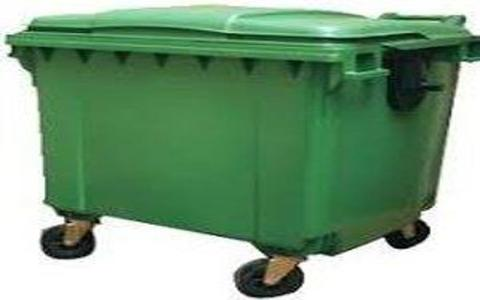Proper garbage: (1, 4, 474, 294)
